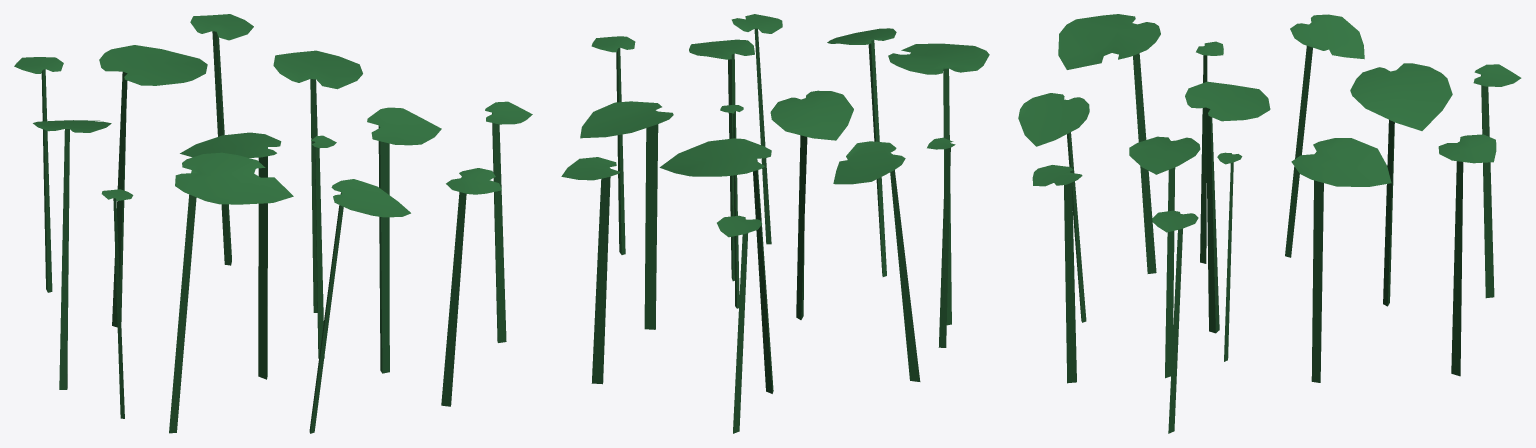
The model's file is plant_monstera_C_carpet.fbx.
3 renders of one model, left to right at view 1: azimuth 30°, elevation 25°; view 2: azimuth 150°, elevation 25°; view 3: azimuth 270°, elevation 25°, orthographic. The views are drawn at different scales.
Parts seen in each view (by area): view 1: plant_monstera_C_carpet_leaf_B, plant_monstera_C_carpet_leaf_A, plant_monstera_C_carpet_leaf_G, plant_monstera_C_carpet_leaf_C, plant_monstera_C_carpet_leaf_D, plant_monstera_C_carpet_leaf_F, plant_monstera_C_carpet_leaf_J, plant_monstera_C_carpet_leaf_L, plant_monstera_C_carpet_leaf_E, plant_monstera_C_carpet_leaf_H, plant_monstera_C_carpet_leaf_I, plant_monstera_C_carpet_leaf_M (+1 smaller); view 2: plant_monstera_C_carpet_leaf_D, plant_monstera_C_carpet_leaf_A, plant_monstera_C_carpet_leaf_C, plant_monstera_C_carpet_leaf_E, plant_monstera_C_carpet_leaf_B, plant_monstera_C_carpet_leaf_H, plant_monstera_C_carpet_leaf_I, plant_monstera_C_carpet_leaf_F, plant_monstera_C_carpet_leaf_G, plant_monstera_C_carpet_leaf_J, plant_monstera_C_carpet_leaf_K, plant_monstera_C_carpet_leaf_L (+1 smaller); view 3: plant_monstera_C_carpet_leaf_A, plant_monstera_C_carpet_leaf_B, plant_monstera_C_carpet_leaf_D, plant_monstera_C_carpet_leaf_C, plant_monstera_C_carpet_leaf_E, plant_monstera_C_carpet_leaf_F, plant_monstera_C_carpet_leaf_G, plant_monstera_C_carpet_leaf_H, plant_monstera_C_carpet_leaf_J, plant_monstera_C_carpet_leaf_I, plant_monstera_C_carpet_leaf_L, plant_monstera_C_carpet_leaf_K (+1 smaller).
Boxes of the visible parts, <box> form: plant_monstera_C_carpet_leaf_B: <box>169,152,293,433</box>; plant_monstera_C_carpet_leaf_A: <box>99,45,207,327</box>; plant_monstera_C_carpet_leaf_G: <box>367,107,441,373</box>; plant_monstera_C_carpet_leaf_C: <box>180,132,281,379</box>; plant_monstera_C_carpet_leaf_D: <box>273,50,362,312</box>; plant_monstera_C_carpet_leaf_F: <box>309,179,410,433</box>; plant_monstera_C_carpet_leaf_J: <box>441,168,501,406</box>; plant_monstera_C_carpet_leaf_L: <box>485,101,532,342</box>; plant_monstera_C_carpet_leaf_E: <box>33,120,111,389</box>; plant_monstera_C_carpet_leaf_H: <box>190,14,253,265</box>; plant_monstera_C_carpet_leaf_I: <box>14,57,63,292</box>; plant_monstera_C_carpet_leaf_M: <box>311,135,336,358</box>; plant_monstera_C_carpet_leaf_D: <box>580,101,673,329</box>; plant_monstera_C_carpet_leaf_A: <box>659,138,773,393</box>; plant_monstera_C_carpet_leaf_C: <box>770,90,853,319</box>; plant_monstera_C_carpet_leaf_E: <box>833,141,920,381</box>; plant_monstera_C_carpet_leaf_B: <box>888,43,989,325</box>; plant_monstera_C_carpet_leaf_H: <box>561,157,619,384</box>; plant_monstera_C_carpet_leaf_I: <box>717,215,761,433</box>; plant_monstera_C_carpet_leaf_F: <box>827,28,896,276</box>; plant_monstera_C_carpet_leaf_G: <box>689,39,754,281</box>; plant_monstera_C_carpet_leaf_J: <box>731,14,782,244</box>; plant_monstera_C_carpet_leaf_K: <box>927,137,955,347</box>; plant_monstera_C_carpet_leaf_L: <box>591,36,635,254</box>; plant_monstera_C_carpet_leaf_A: <box>1350,63,1452,306</box>; plant_monstera_C_carpet_leaf_B: <box>1058,14,1160,273</box>; plant_monstera_C_carpet_leaf_D: <box>1291,138,1391,382</box>; plant_monstera_C_carpet_leaf_C: <box>1185,81,1270,333</box>; plant_monstera_C_carpet_leaf_E: <box>1285,14,1364,257</box>; plant_monstera_C_carpet_leaf_F: <box>1018,93,1089,322</box>; plant_monstera_C_carpet_leaf_G: <box>1129,136,1200,378</box>; plant_monstera_C_carpet_leaf_H: <box>1438,134,1496,376</box>; plant_monstera_C_carpet_leaf_J: <box>1032,165,1082,383</box>; plant_monstera_C_carpet_leaf_I: <box>1473,64,1521,298</box>; plant_monstera_C_carpet_leaf_L: <box>1152,210,1198,433</box>; plant_monstera_C_carpet_leaf_K: <box>1196,41,1223,263</box>.
Size of the model in its own units: 119 by 73.28 by 131.
